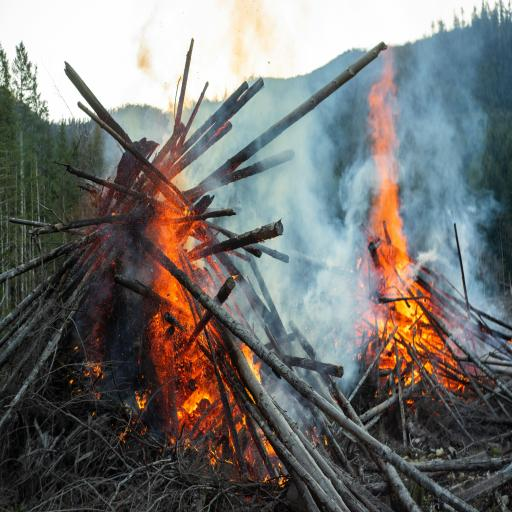wildfire: (37, 36, 509, 512)
